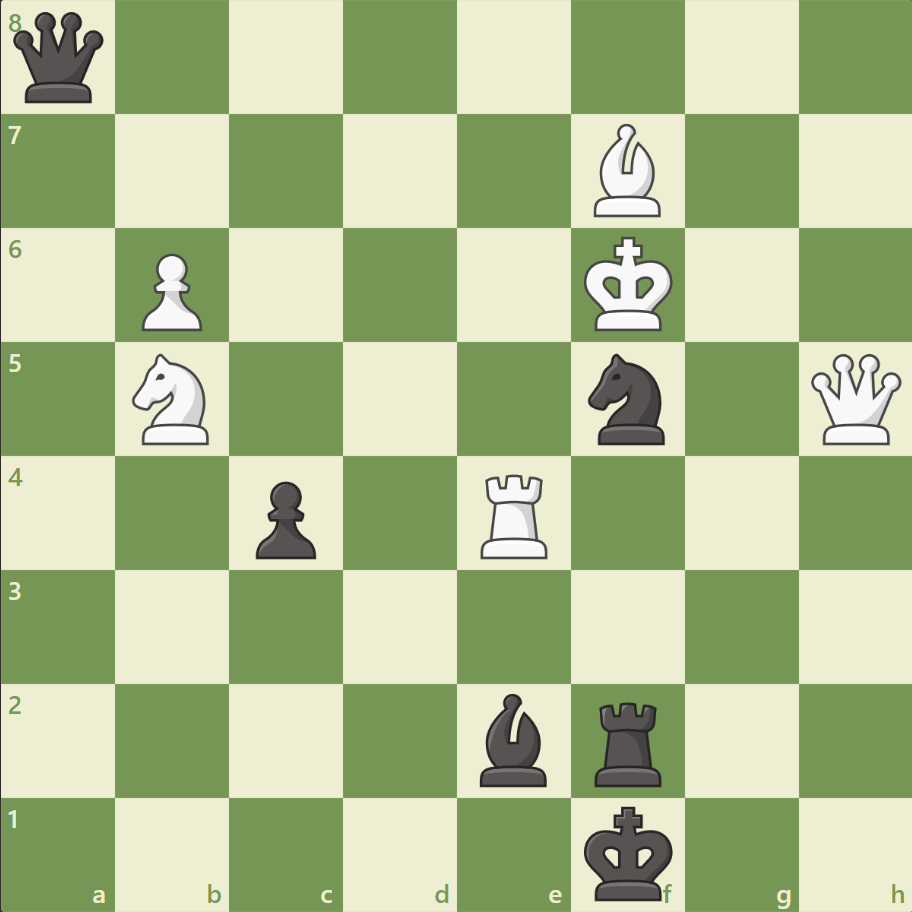B: (592, 125, 670, 229)
K: (582, 240, 680, 341)
N: (133, 354, 222, 455)
P: (142, 249, 214, 333)
Q: (808, 353, 909, 455)
R: (479, 467, 557, 567)
b: (479, 693, 557, 796)
k: (582, 807, 680, 909)
n: (587, 354, 676, 455)
p: (255, 476, 327, 560)
q: (14, 13, 115, 114)
r: (592, 694, 670, 794)
